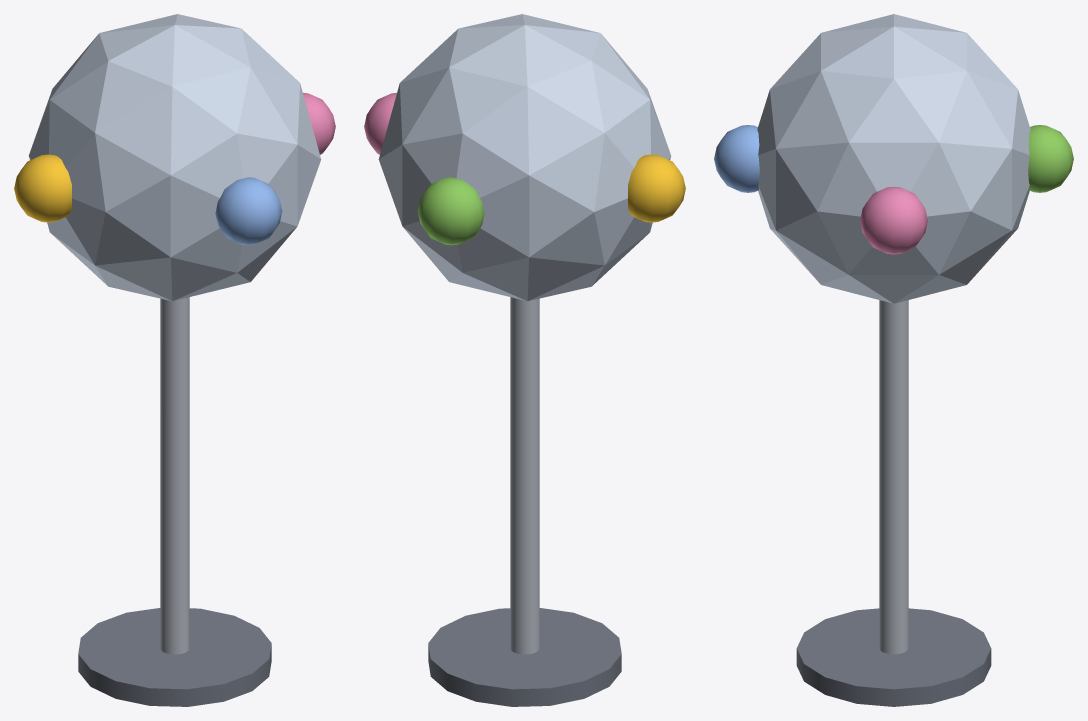
Rendered from disco_light.glb.
The picture shows the model from 3 angles, left to right: view 1: azimuth 30°, elevation 25°; view 2: azimuth 150°, elevation 25°; view 3: azimuth 270°, elevation 25°; orthographic projection.
Visible parts, largest first — view 1: root; view 2: root; view 3: root.
Part boxes in pixels (x1,y1,x2,y2): root: (14,14,335,706); root: (364,14,685,706); root: (714,14,1073,706).
Bounding box in the file's own units: 0.74 × 1.45 × 0.74.
